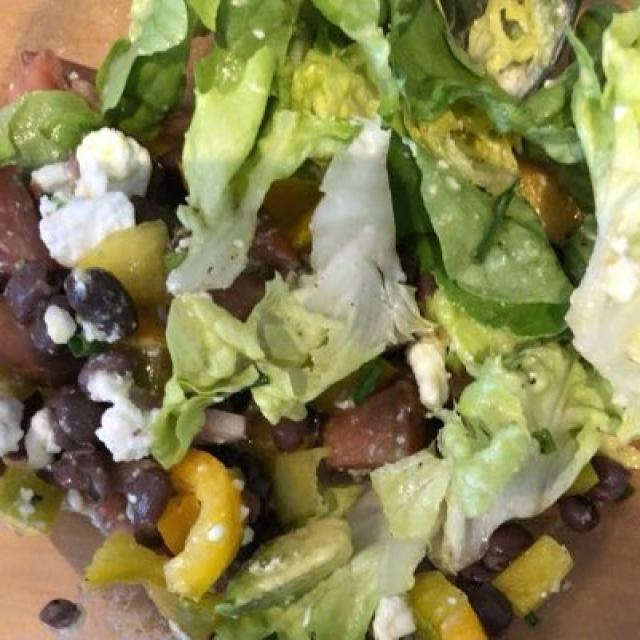bell-pepper: (74, 179, 570, 639)
salad: (4, 7, 631, 629)
tomato: (316, 381, 447, 466)
